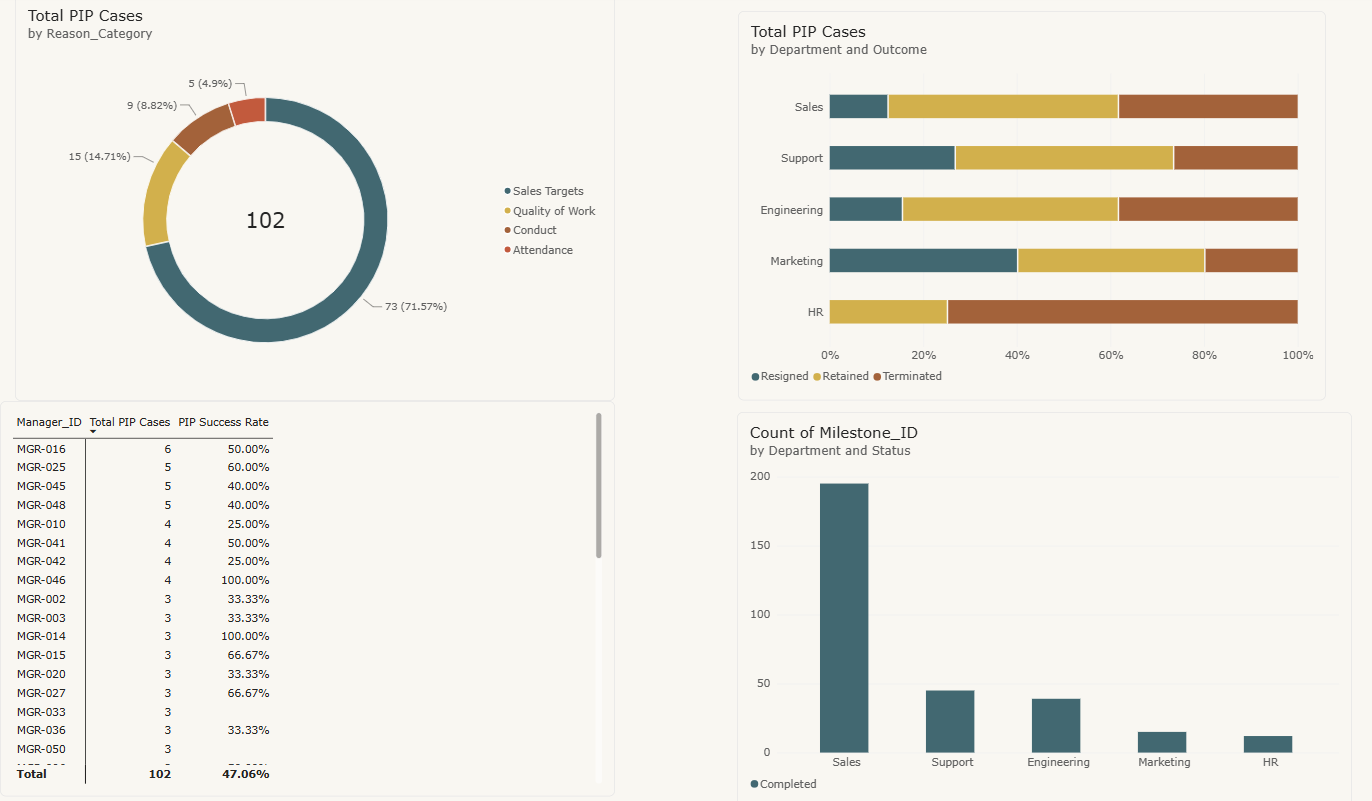

This screenshot's page, from the dashboard's own definition file:
{"tool":"powerbi","page":{"name":"Page 2","canvas":[1920,1080],"ordinal":1},"visuals":[{"type":"donutChart","fields":{"Category":["pip_cases.Reason_Category"],"Y":["pip_cases.Total PIP Cases"]},"box":[20.3,0,798,539.9],"z":0},{"type":"pivotTable","fields":{"Rows":["employees.Manager_ID"],"Values":["pip_cases.Total PIP Cases","pip_cases.PIP Success Rate"]},"box":[0,539.9,818.4,525.8],"z":1000},{"type":"hundredPercentStackedBarChart","fields":{"Category":["employees.Department"],"Series":["pip_cases.Outcome"],"Y":["pip_cases.Total PIP Cases"]},"box":[981.1,21.9,782.4,517.9],"z":2000},{"type":"columnChart","fields":{"Category":["employees.Department"],"Series":["pip_cases.Status"],"Y":["CountNonNull(pip_milestones.Milestone_ID)"]},"box":[980.4,554.4,818,526],"z":3000}]}

Visuals, with their boxes on the page's 1920x1080 design canvas (x1, y1, x2, y2). These are canvas units, not pixel positions in the 1372x801 screenshot, which may show the page scaled, cropped or inside an application window:
donutChart - pip_cases.Reason_Category x pip_cases.Total PIP Cases: 20,0,818,540
pivotTable - employees.Manager_ID x pip_cases.Total PIP Cases: 0,540,818,1066
hundredPercentStackedBarChart - employees.Department x pip_cases.Outcome: 981,22,1764,540
columnChart - employees.Department x pip_cases.Status: 980,554,1798,1080
